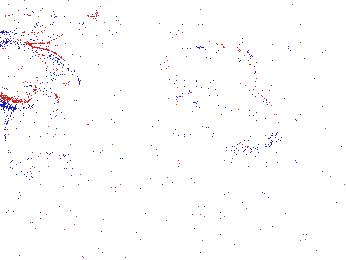moon jellyfish: (4, 90, 59, 178), (207, 89, 280, 150), (205, 38, 256, 119), (159, 47, 234, 101), (1, 37, 46, 106)
